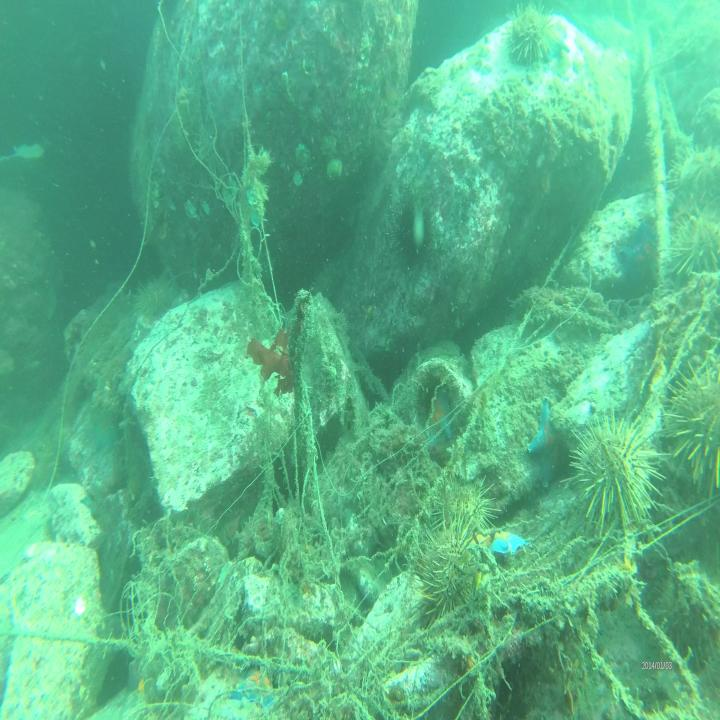echinus: (572, 418, 652, 544), (419, 523, 485, 628), (674, 362, 719, 503), (444, 476, 496, 544), (508, 2, 551, 70), (396, 200, 431, 266)
starfish: (529, 401, 567, 487), (231, 662, 280, 712), (423, 385, 452, 452), (489, 526, 527, 560), (541, 16, 568, 60)
